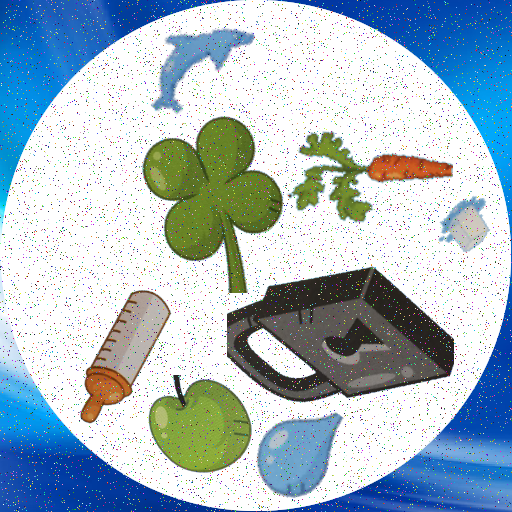apple_icon: (142, 375, 253, 486)
bottle_icon: (45, 281, 196, 432)
carrot_icon: (282, 78, 453, 249)
cloverleaf_icon: (111, 112, 292, 293)
cube_icon: (435, 194, 502, 261)
dolphin_icon: (135, 1, 260, 126)
lock_icon: (227, 230, 454, 457)
raindrop_icon: (251, 400, 354, 503)
